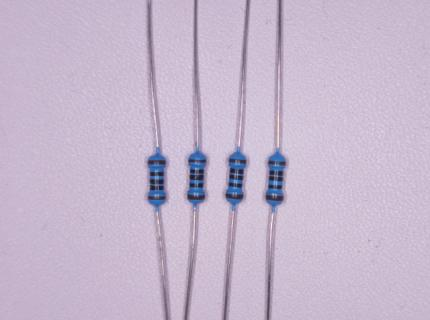Black band: (269, 170, 284, 176), (230, 168, 244, 174), (190, 174, 204, 180), (150, 179, 164, 185), (229, 182, 242, 188), (268, 184, 282, 189), (269, 176, 283, 181), (229, 175, 243, 180), (190, 169, 204, 174), (150, 185, 164, 190), (189, 183, 203, 187), (150, 172, 164, 176)
Brown band: (265, 194, 283, 201), (148, 159, 166, 165), (187, 194, 205, 200), (228, 158, 246, 164), (226, 193, 244, 199), (268, 159, 286, 165), (148, 195, 166, 200), (188, 159, 207, 163)
